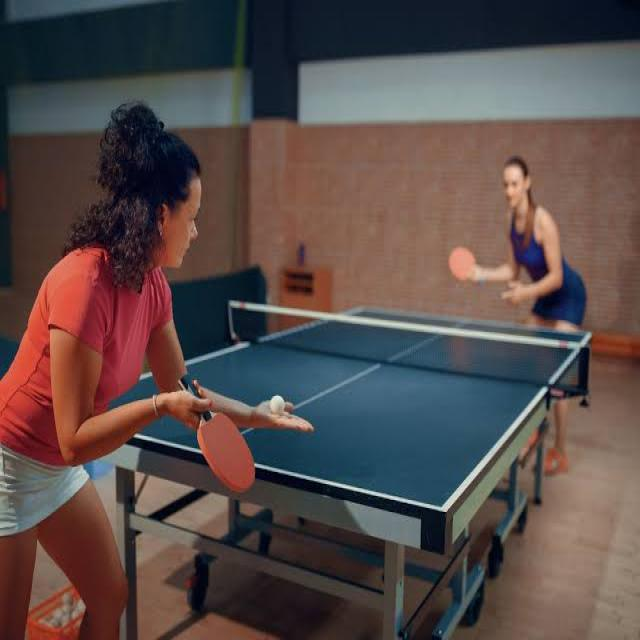TT Net: (222, 294, 592, 405)
TT Racket: (184, 404, 269, 508), (438, 240, 480, 289)
TT Table: (54, 306, 591, 511)
